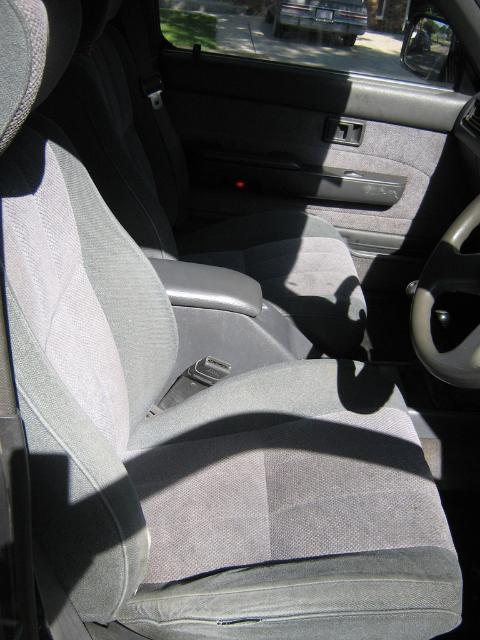Seatbelt: (118, 1, 190, 193)
